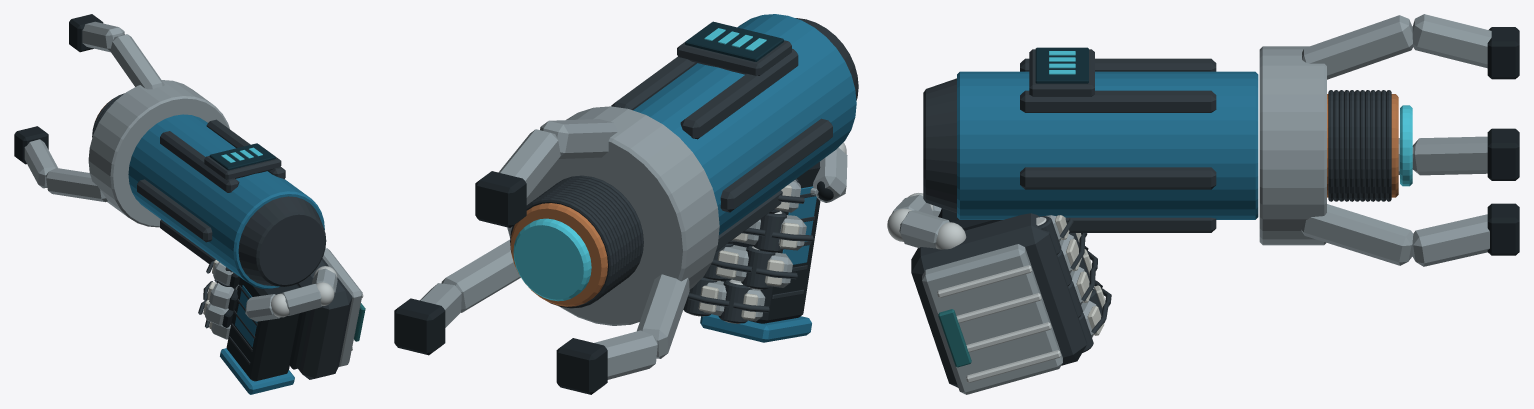
The model's file is tool_grabber.glb.
The picture shows the model from 3 angles, left to right: view 1: azimuth 30°, elevation 25°; view 2: azimuth 150°, elevation 25°; view 3: azimuth 270°, elevation 25°; orthographic projection. The views are drawn at different scales.
Visible parts, largest first — view 1: tool, hand, jaw_0, jaw_1; view 2: tool, hand, jaw_1, jaw_0, jaw_2, coil; view 3: tool, hand, jaw_2, jaw_0, jaw_1, coil.
Part boxes in pixels (x1,y1,x2,y2): tool: (88,80,326,394); hand: (198,248,365,379); jaw_0: (69,14,164,89); jaw_1: (14,126,107,202); tool: (507,14,858,342); hand: (683,142,847,323); jaw_1: (556,274,689,394); jaw_0: (475,119,618,227); jaw_2: (394,239,520,355); coil: (513,218,591,301); tool: (923,46,1398,245); hand: (887,193,1111,394); jaw_2: (1301,203,1519,266); jaw_0: (1302,14,1519,79); jaw_1: (1398,128,1519,180); coil: (1400,105,1412,186).
Bounding box in the file's own units: 0.1805 × 0.2737 × 0.4514.
